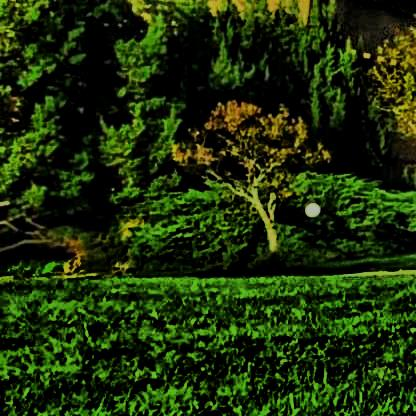golfball: (300, 198, 317, 215)
